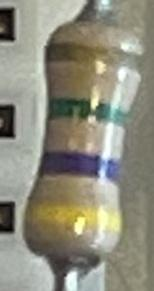Blue: (34, 147, 120, 188)
Green: (49, 96, 132, 132)
Side-Silver: (43, 40, 144, 80)
Yellow: (21, 196, 122, 240)
